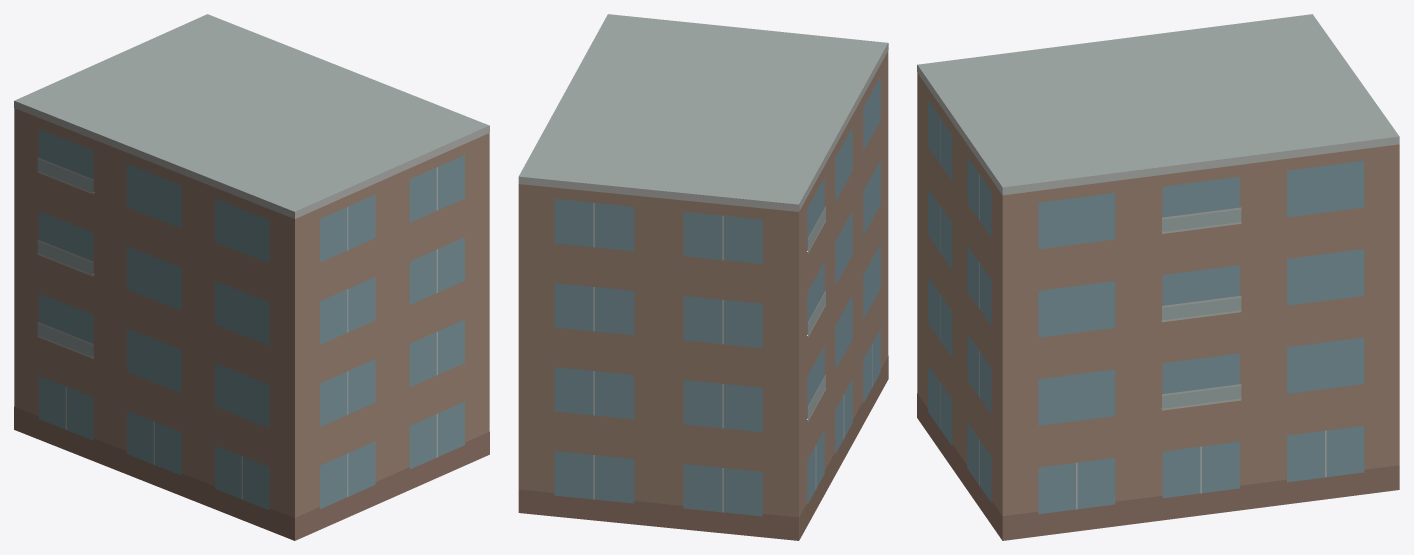
The model's file is survey-upis-32705522.glb.
3 renders of one model, left to right at view 1: azimuth 30°, elevation 25°; view 2: azimuth 150°, elevation 25°; view 3: azimuth 270°, elevation 25°, orthographic. The views are drawn at different scales.
Visible parts, largest first — view 1: survey-upis-32705522.tmp; view 2: survey-upis-32705522.tmp; view 3: survey-upis-32705522.tmp.
Boxes of the visible parts, box(x1,y1,x2,y2) form: survey-upis-32705522.tmp: box(14, 14, 489, 540); survey-upis-32705522.tmp: box(518, 14, 888, 540); survey-upis-32705522.tmp: box(917, 14, 1399, 540).
Size of the model in its own units: 11.71 by 11.1 by 13.75.
